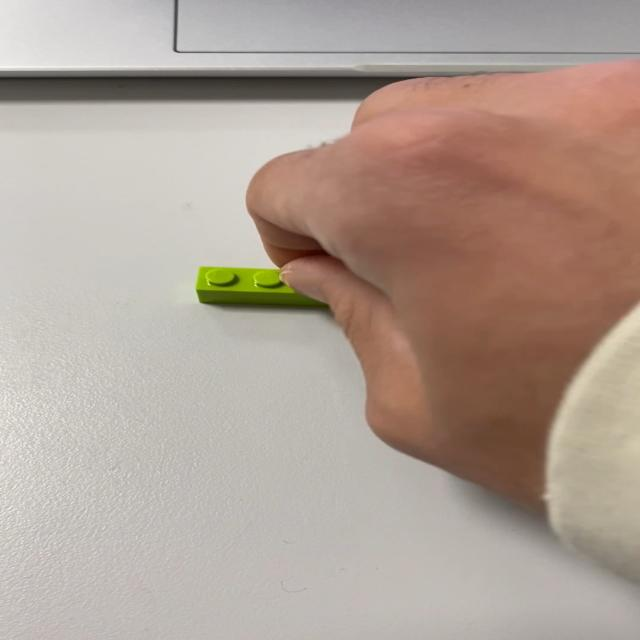C4x1x1: (194, 264, 330, 308)
